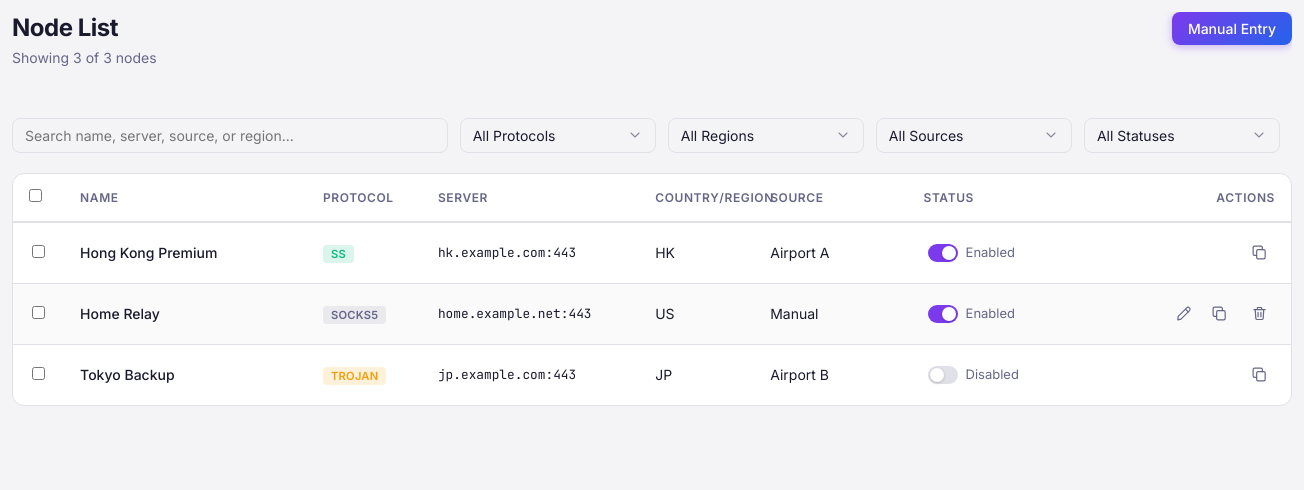
Scenario: Nodes filters › reports clipboard permission failures
What coordinates should you click on to do the following:
click the button named "Copy node URI for Hong Kong Premium"
I would click on:
 (1259, 253)
Its box is x1=1243 y1=237 x2=1275 y2=269.
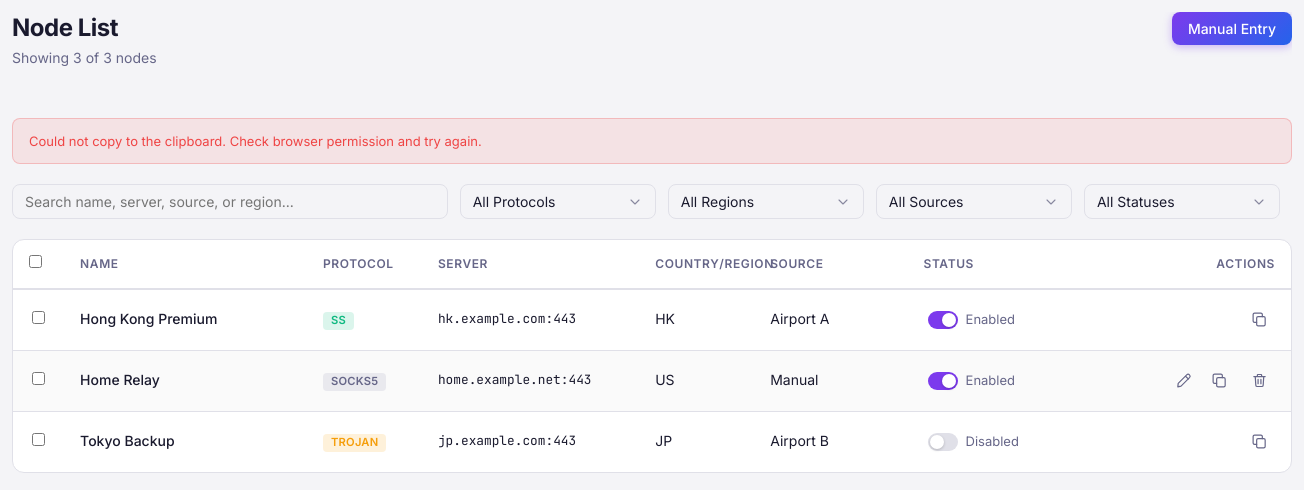
expect the message shows "Could not copy to the clipboard": met, box x1=29 y1=133 x2=482 y2=149
